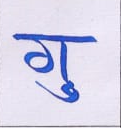u_matra: (35, 76, 82, 103)
